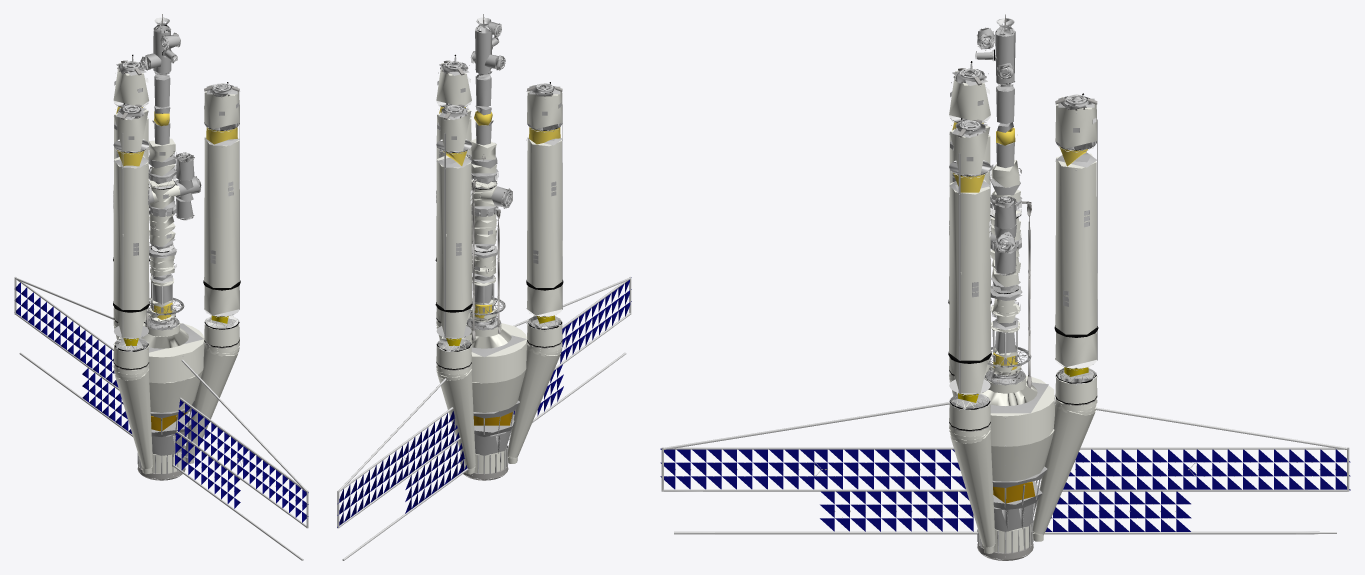
Rendered from hail_mary.glb.
The picture shows the model from 3 angles, left to right: view 1: azimuth 30°, elevation 25°; view 2: azimuth 150°, elevation 25°; view 3: azimuth 270°, elevation 25°; orthographic projection. The views are drawn at different scales.
Visible parts, largest first — view 1: Main Ship, Habitat; view 2: Main Ship, Habitat, Main Habitat Lines; view 3: Main Ship, Habitat.
Boxes of the visible parts, x1,y1,x2,y2 form: Main Ship: [14, 54, 308, 560]; Habitat: [140, 14, 201, 322]; Main Ship: [337, 54, 631, 560]; Habitat: [466, 14, 512, 322]; Main Habitat Lines: [471, 179, 500, 340]; Main Ship: [660, 61, 1350, 560]; Habitat: [975, 14, 1031, 375].
Size of the model in its own units: 31.33 by 111 by 130.
